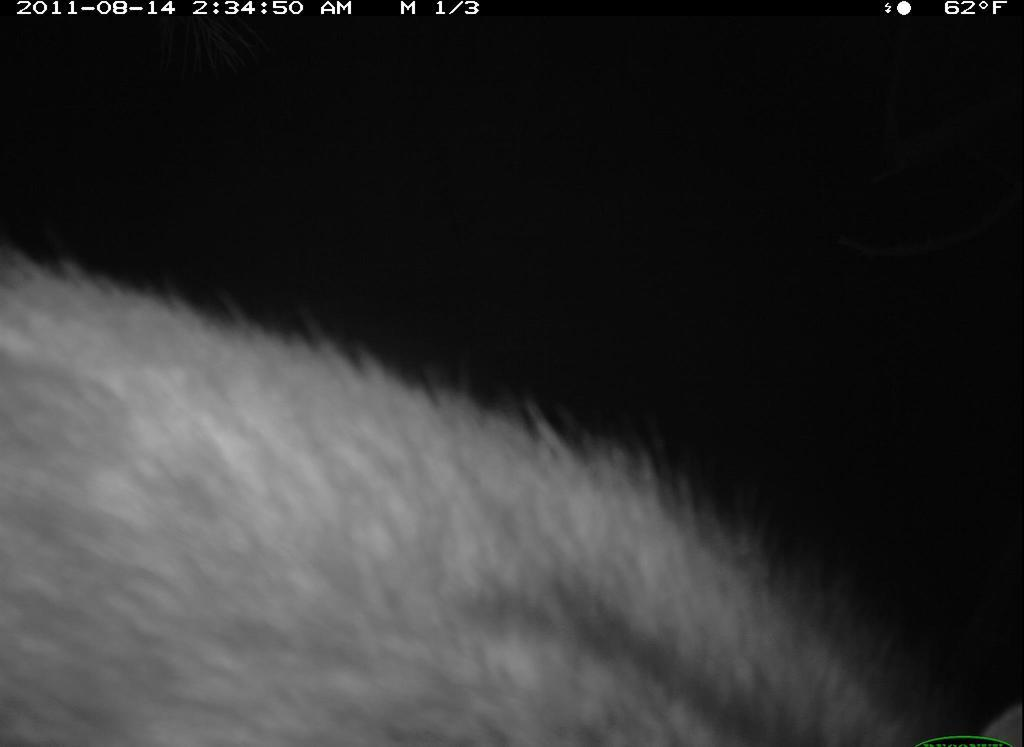raccoon: (2, 233, 1003, 747)
